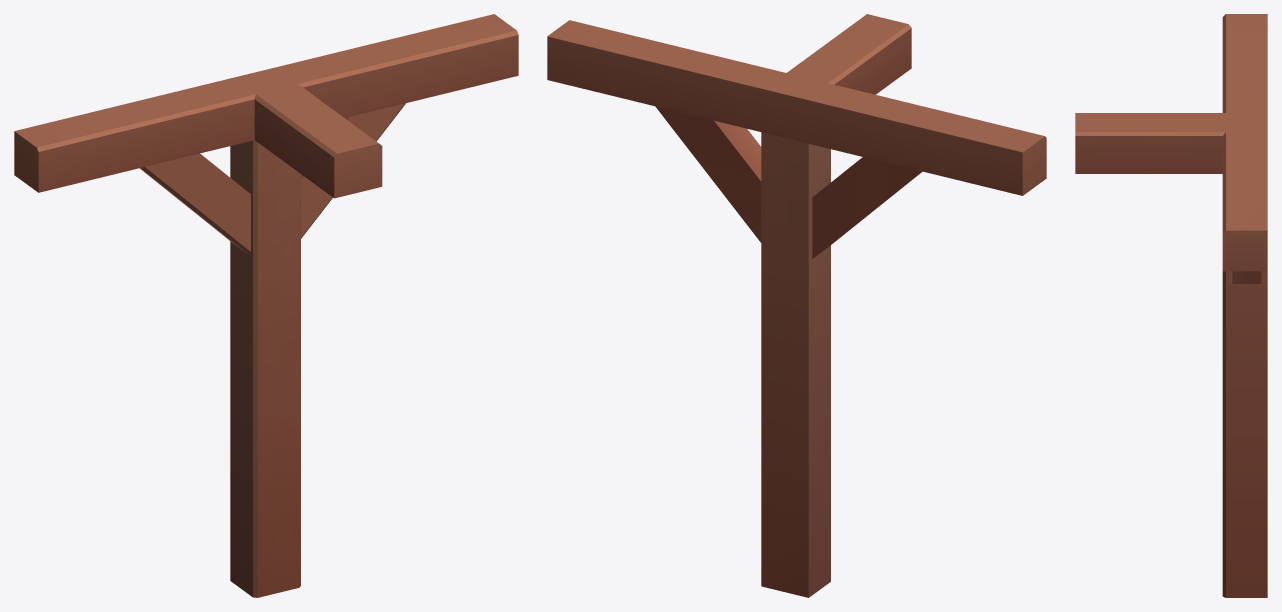
The model's file is scaffold_pillar_wall_cross.glb.
3 renders of one model, left to right at view 1: azimuth 30°, elevation 25°; view 2: azimuth 150°, elevation 25°; view 3: azimuth 270°, elevation 25°, orthographic. The views are drawn at different scales.
Visible parts, largest first — view 1: scaffold_pillar_wall_cross; view 2: scaffold_pillar_wall_cross; view 3: scaffold_pillar_wall_cross.
Boxes of the visible parts, left/top/right/bottom form: scaffold_pillar_wall_cross: left=14, top=14, right=518, bottom=597; scaffold_pillar_wall_cross: left=547, top=14, right=1046, bottom=597; scaffold_pillar_wall_cross: left=1075, top=14, right=1267, bottom=597.
Size of the model in its own units: 4 by 4 by 1.5.
1 material, 1 textured.
